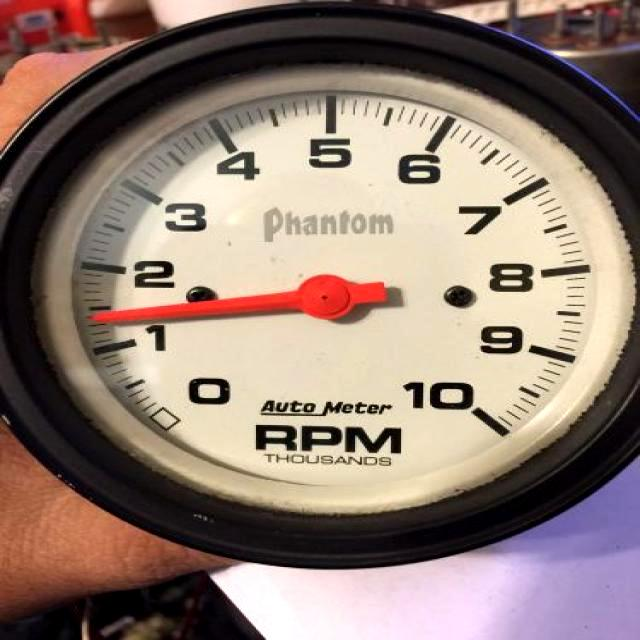Needle_Tip: (51, 291, 212, 345)
Needle_base: (286, 260, 391, 341)
max_value: (387, 368, 522, 427)
min_value: (168, 356, 253, 419)
